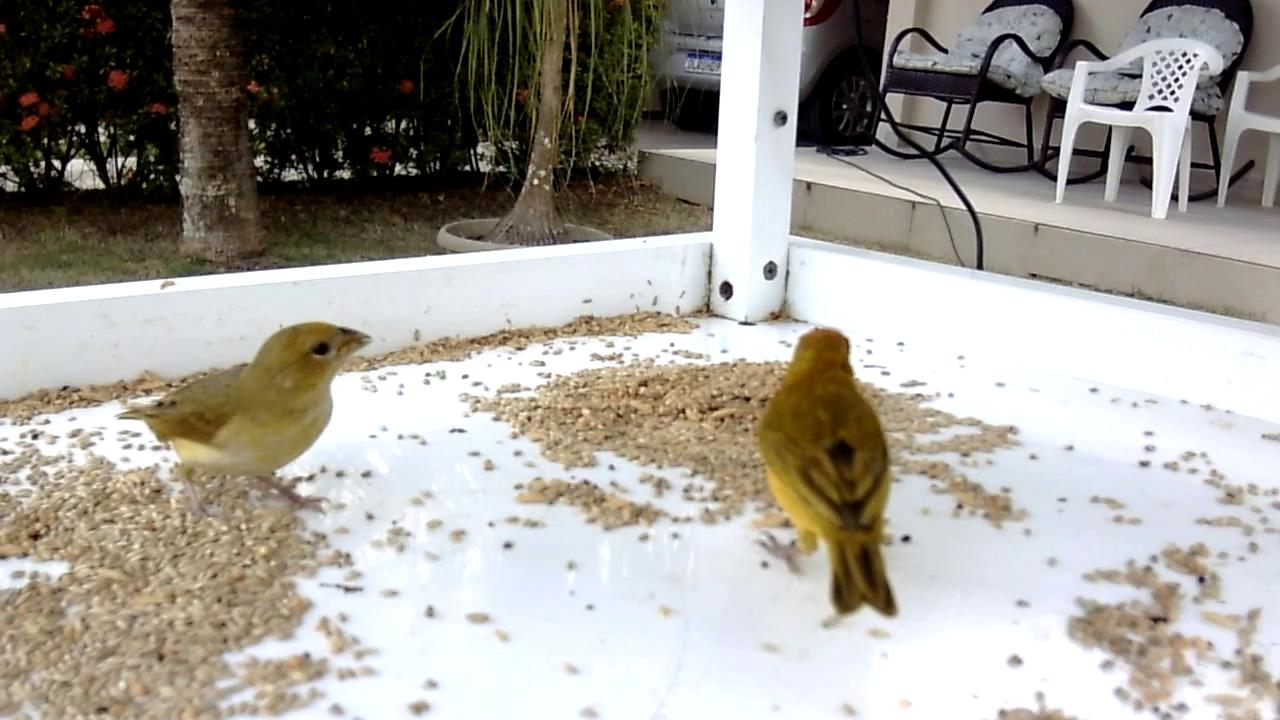canario_do_amazonas: (115, 320, 375, 524), (749, 324, 903, 623)
